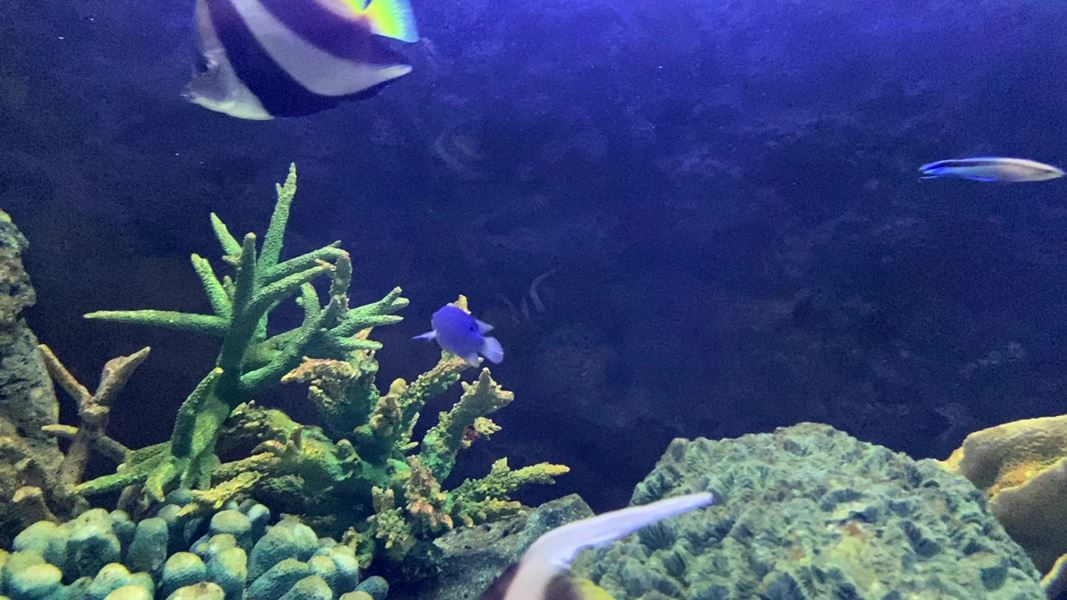Bluesteak cleaner wrasse: (899, 139, 1067, 192)
